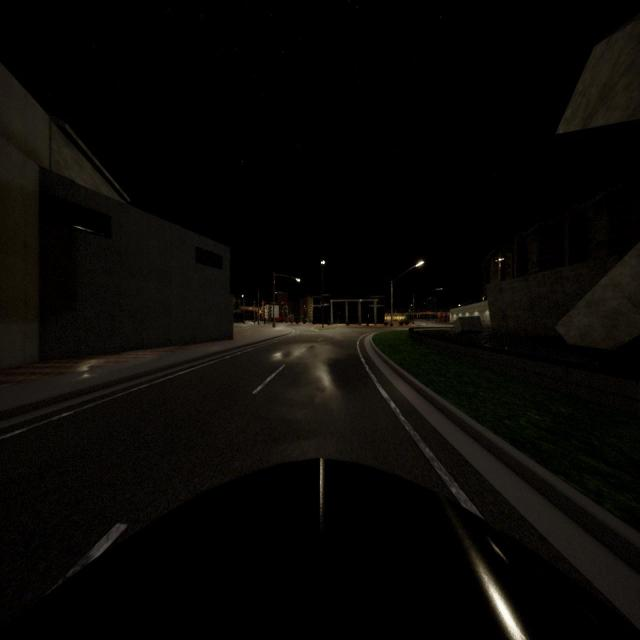Vehicle: (0, 461, 640, 640), (276, 318, 282, 322), (287, 316, 291, 322)
